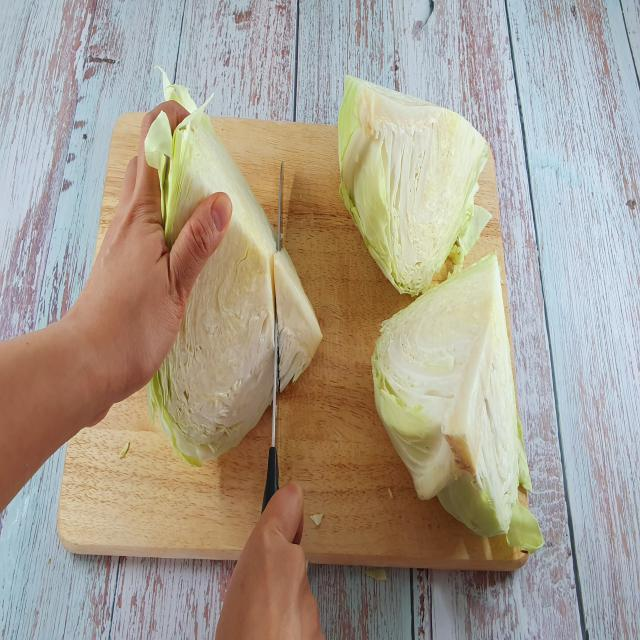cabbage: (150, 88, 323, 472), (370, 255, 525, 543), (336, 68, 491, 300)
